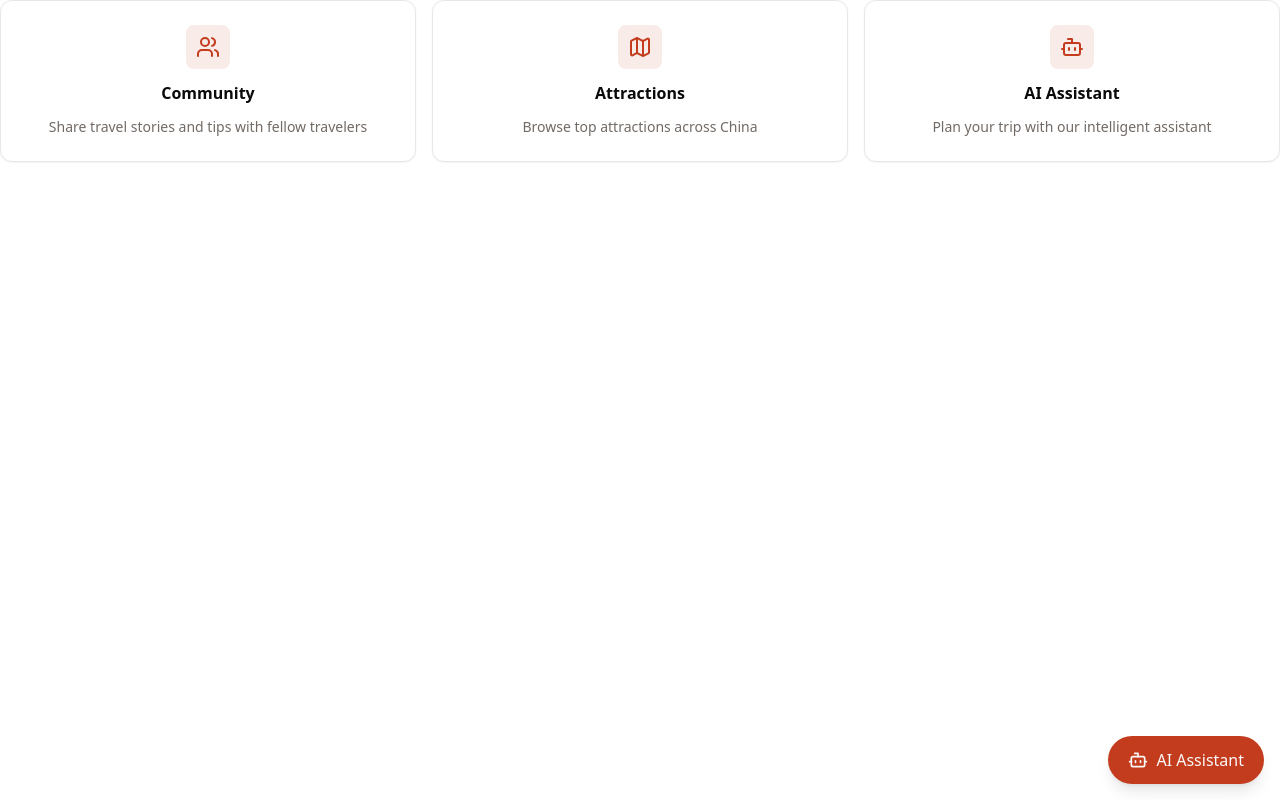
Scenario: AssistantPanel › appends deltas progressively inside an aria-live region
Click the button "AI Assistant": [1186, 760] box [1108,736,1264,784]
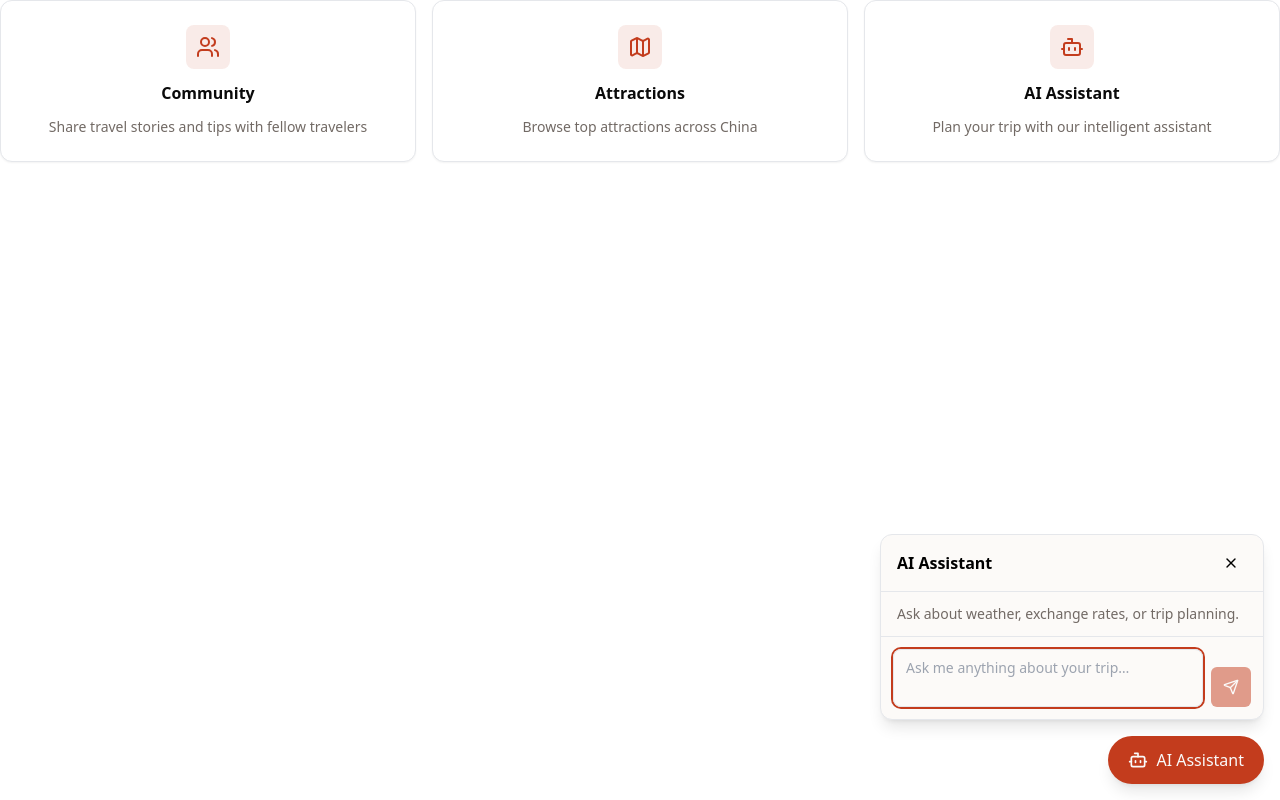
In the text box named "Message": [1048, 678] box [893,649,1203,707], type "Hi"
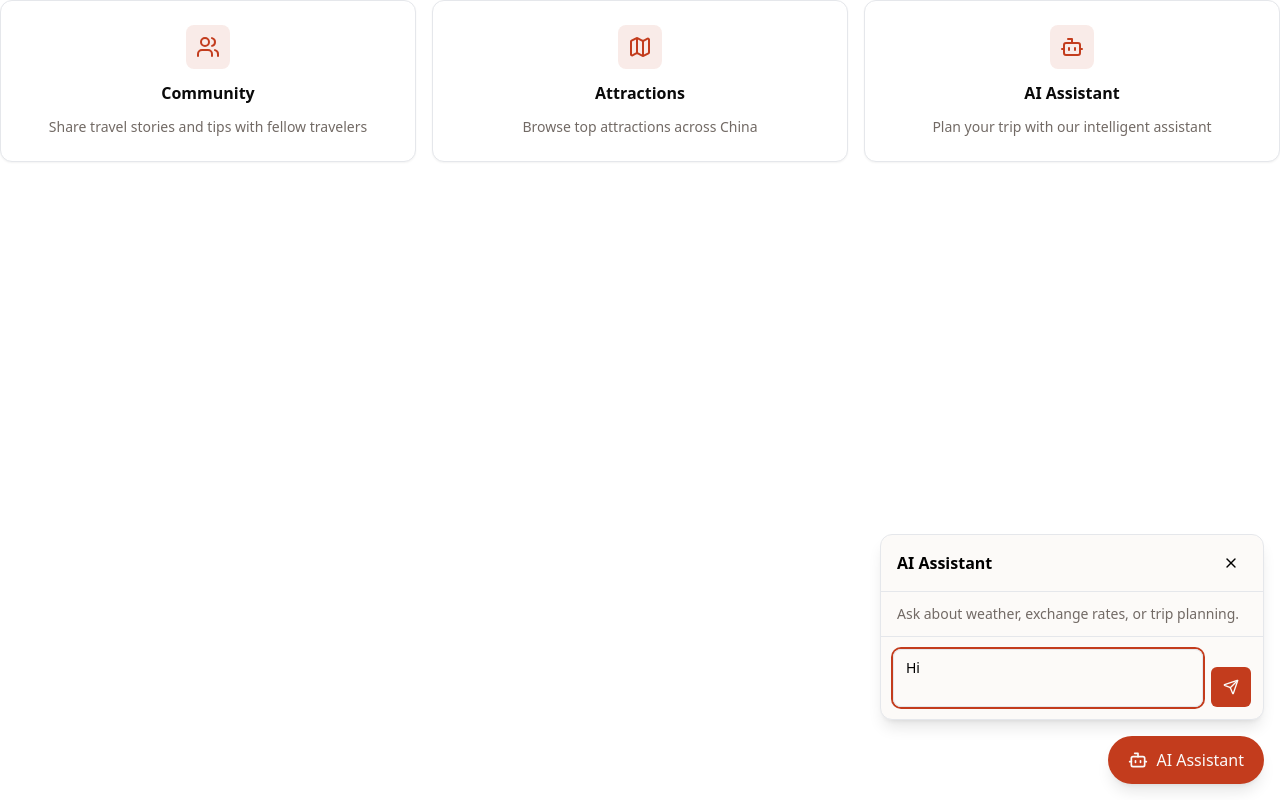
Click the button named "Send": [1231, 687] box [1211,667,1251,707]
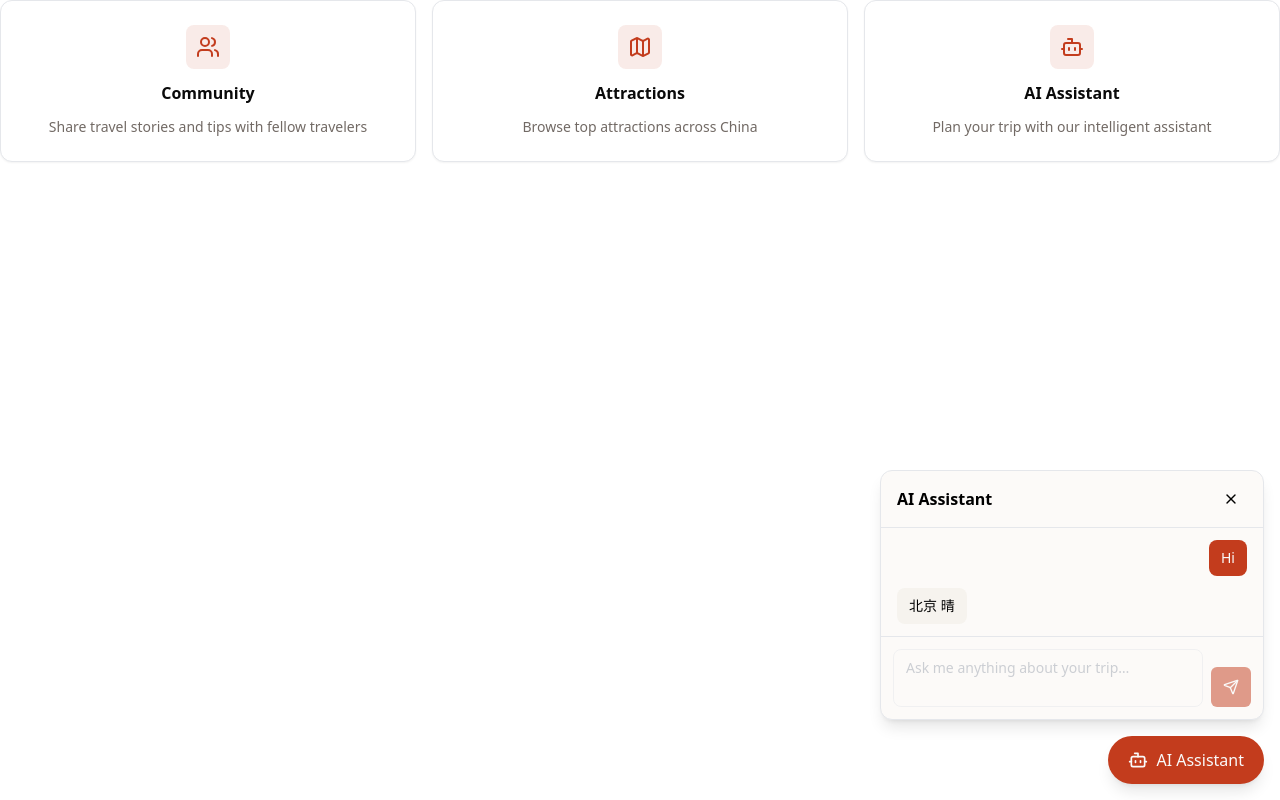
Check: the text "北京 晴" is shown, box [897,588,967,624]
